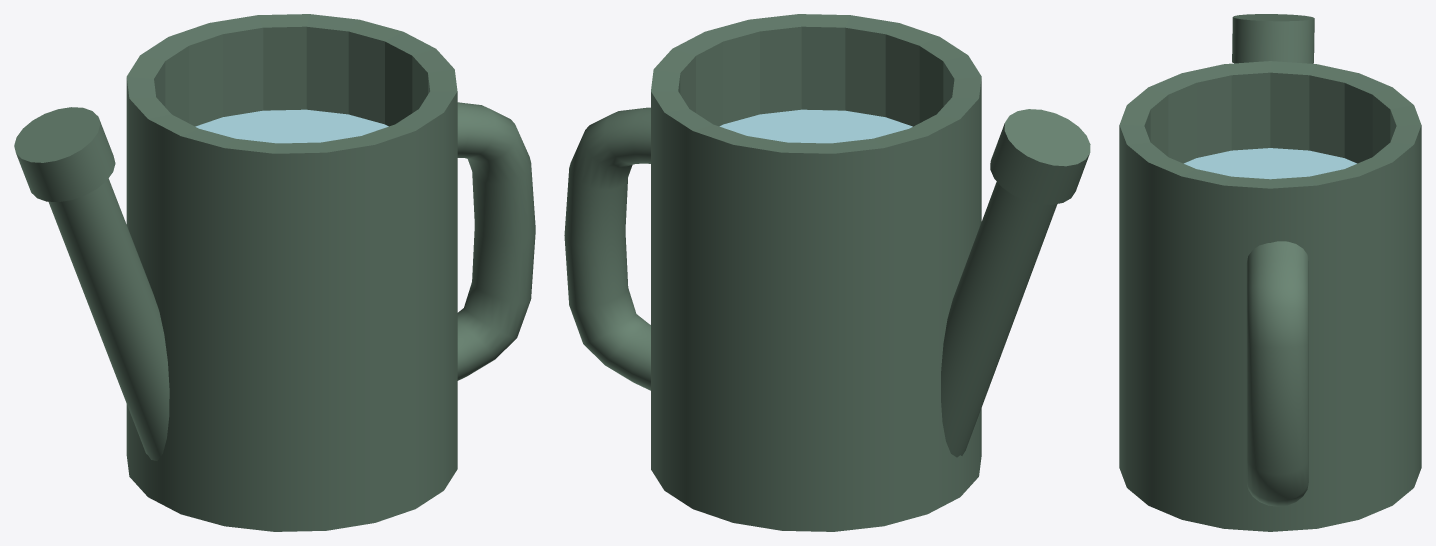
The model's file is WateringCan.fbx.
The picture shows the model from 3 angles, left to right: view 1: azimuth 30°, elevation 25°; view 2: azimuth 150°, elevation 25°; view 3: azimuth 270°, elevation 25°; orthographic projection. The views are drawn at different scales.
Parts seen in each view (by area): view 1: WateringCan, E, pCylinder2, pCylinder3; view 2: WateringCan, E, pCylinder2, pCylinder3; view 3: WateringCan, E, pCylinder3.
Part boxes in pixels (x1,y1,x2,y2): WateringCan: (126, 14, 457, 531); E: (457, 102, 535, 380); pCylinder2: (48, 178, 169, 460); pCylinder3: (14, 107, 115, 202); WateringCan: (651, 14, 981, 531); E: (564, 107, 650, 390); pCylinder2: (941, 181, 1057, 457); pCylinder3: (990, 109, 1090, 204); WateringCan: (1119, 61, 1421, 531); E: (1246, 241, 1308, 506); pCylinder3: (1232, 14, 1314, 63).
Bounding box in the file's own units: 2.03 × 1.5 × 1.14.
